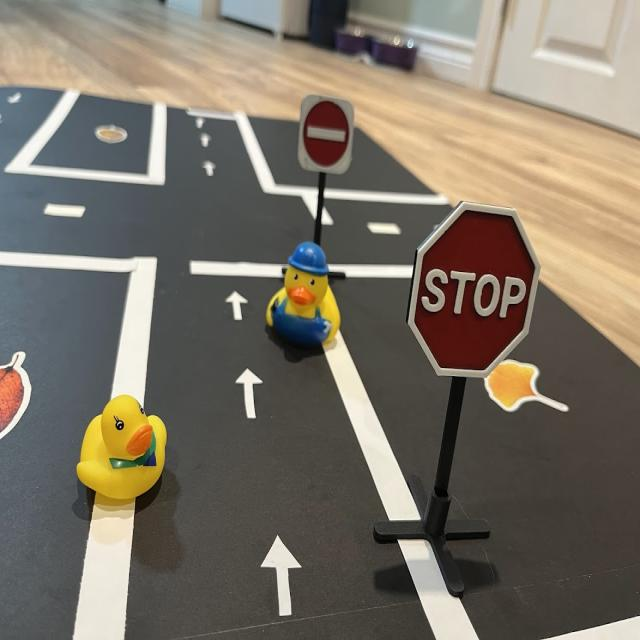duck_regular: (76, 396, 168, 511)
duck_specialty: (265, 244, 341, 363)
road_oneway: (262, 528, 304, 623), (236, 362, 268, 425), (227, 285, 249, 325), (7, 89, 28, 111), (203, 156, 220, 181), (201, 136, 212, 151), (196, 117, 207, 130)
sign_noentry: (298, 96, 355, 176)
sign_stop: (407, 205, 541, 385)
